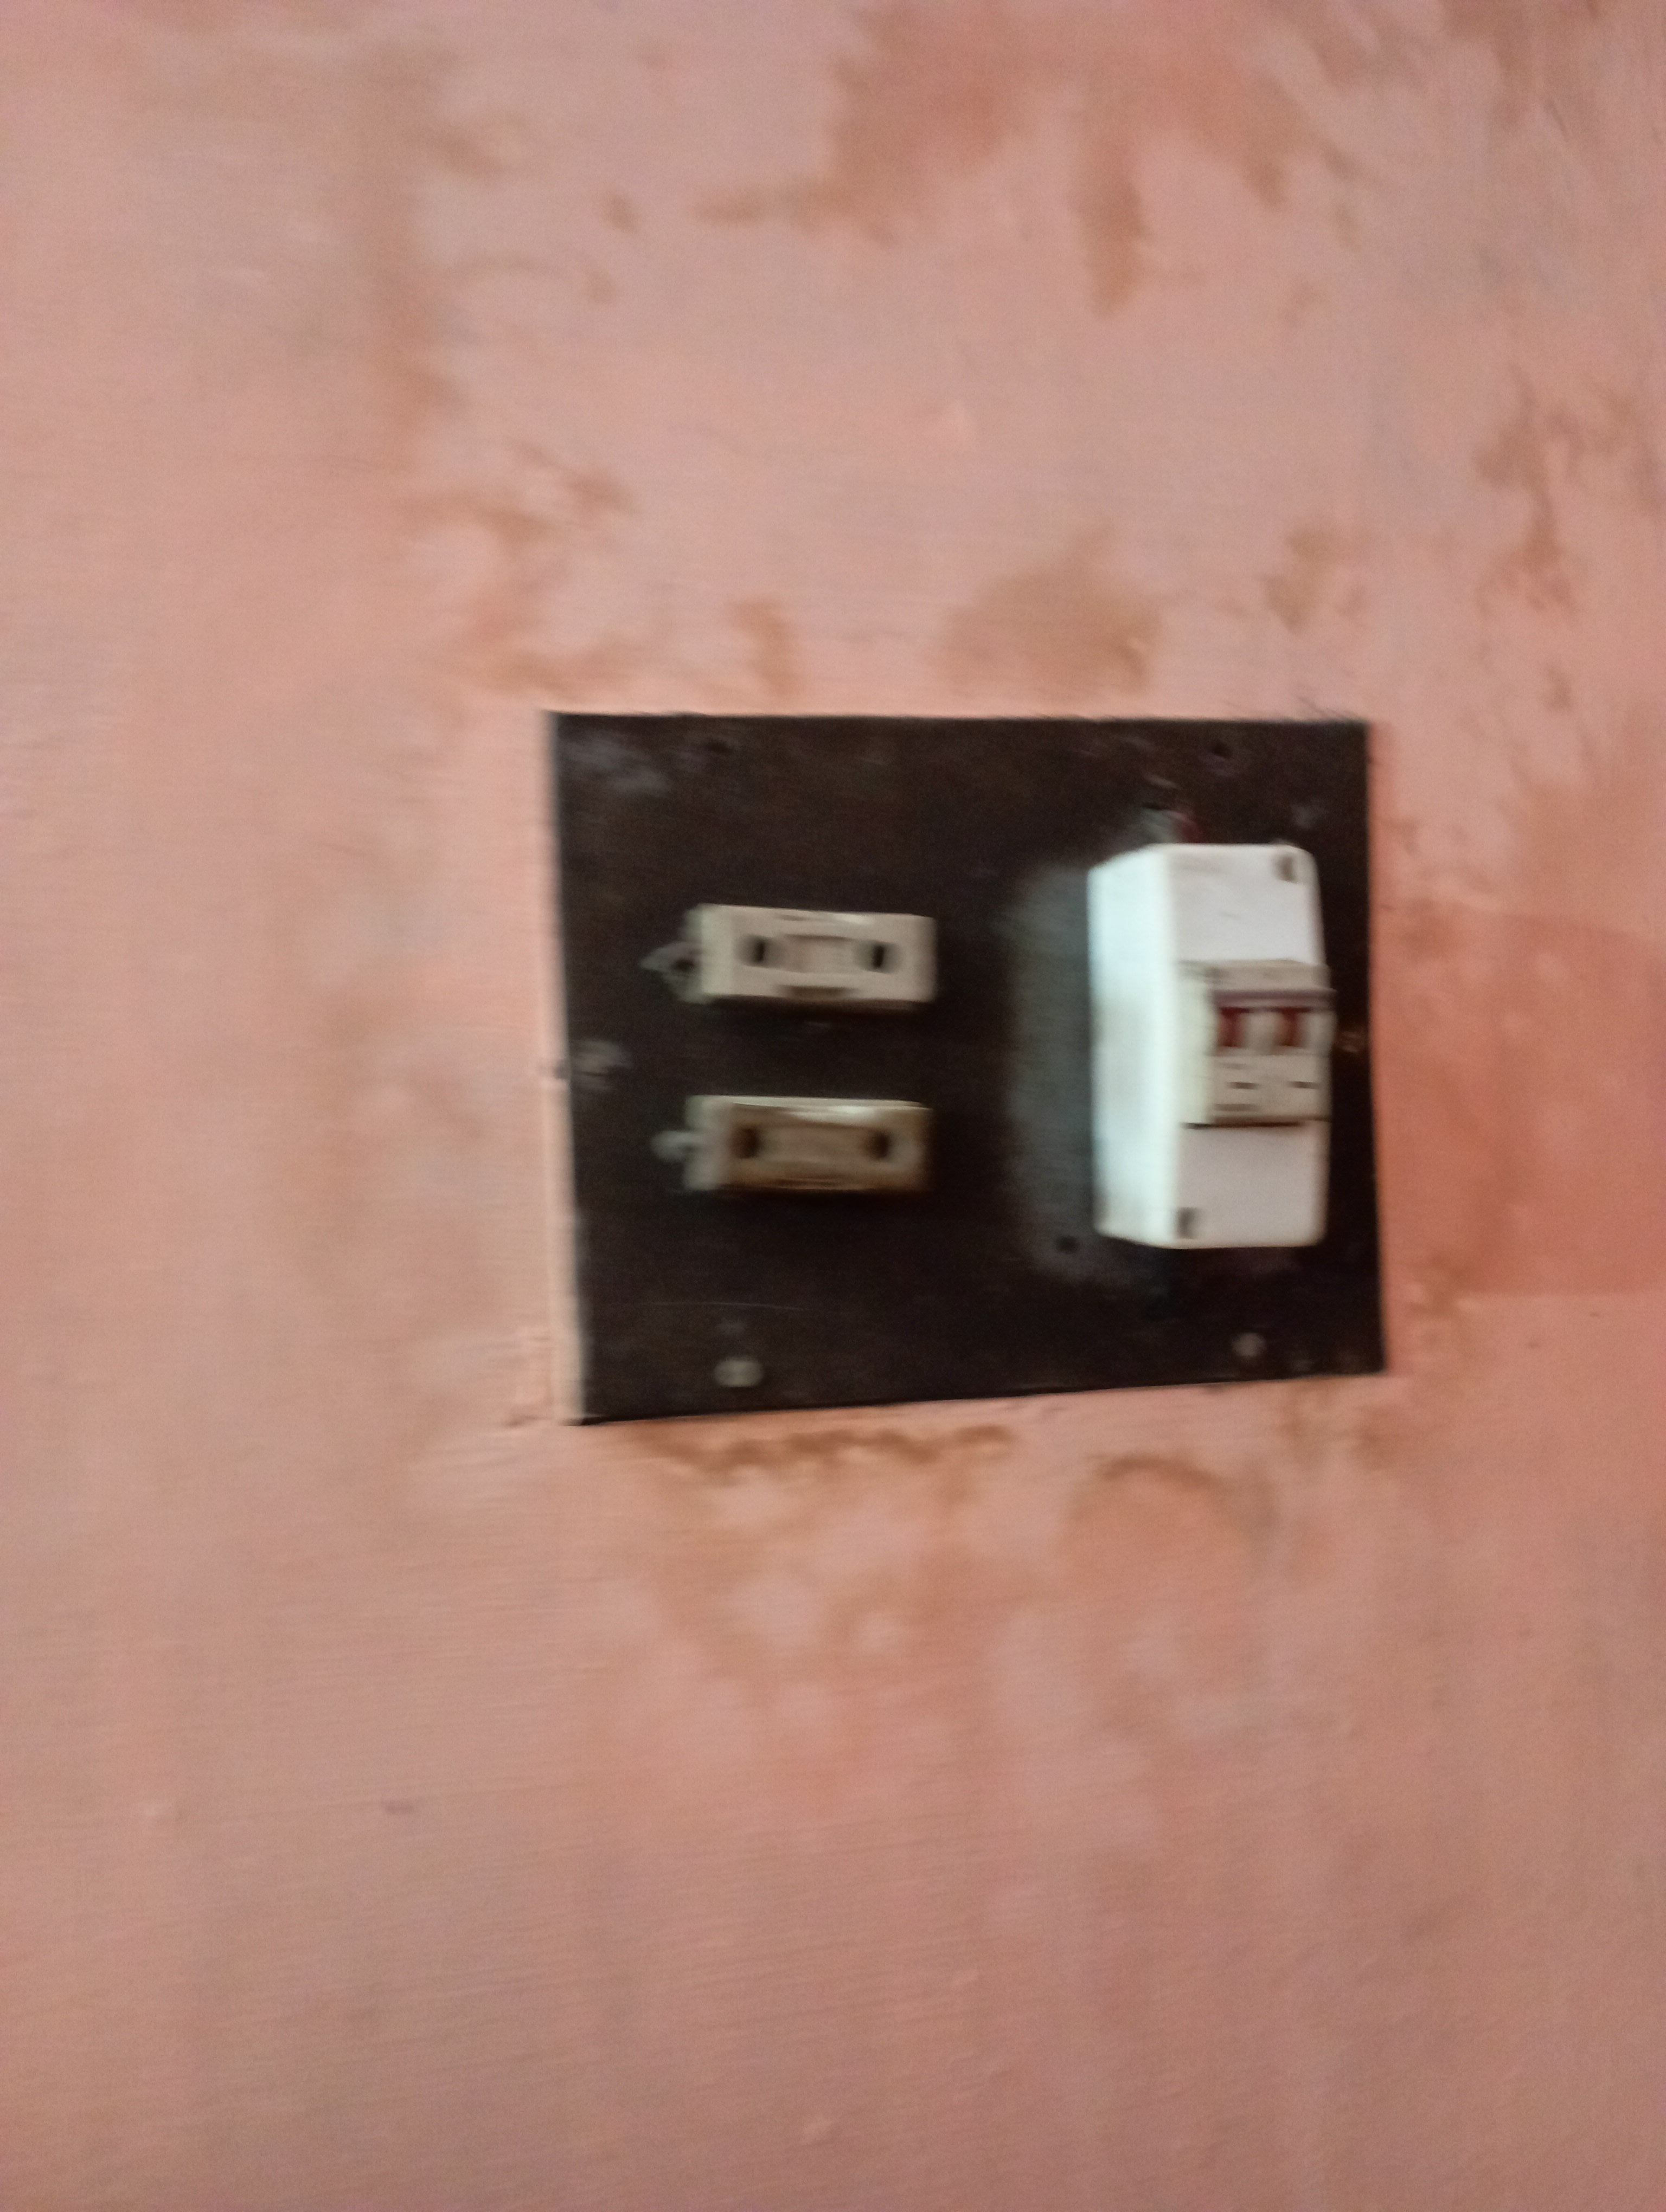ciruit_breaker: (1062, 841, 1384, 1287)
fuse: (648, 1098, 952, 1212), (653, 895, 929, 1018)
